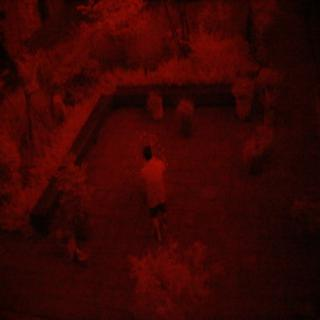person: (134, 139, 169, 240)
